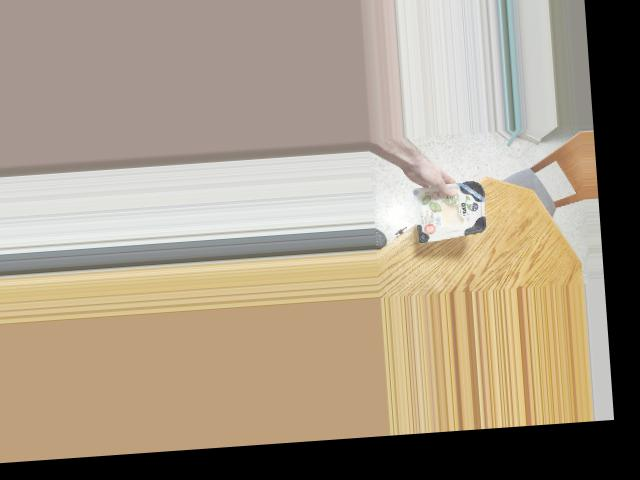cheese: (400, 182, 499, 243)
